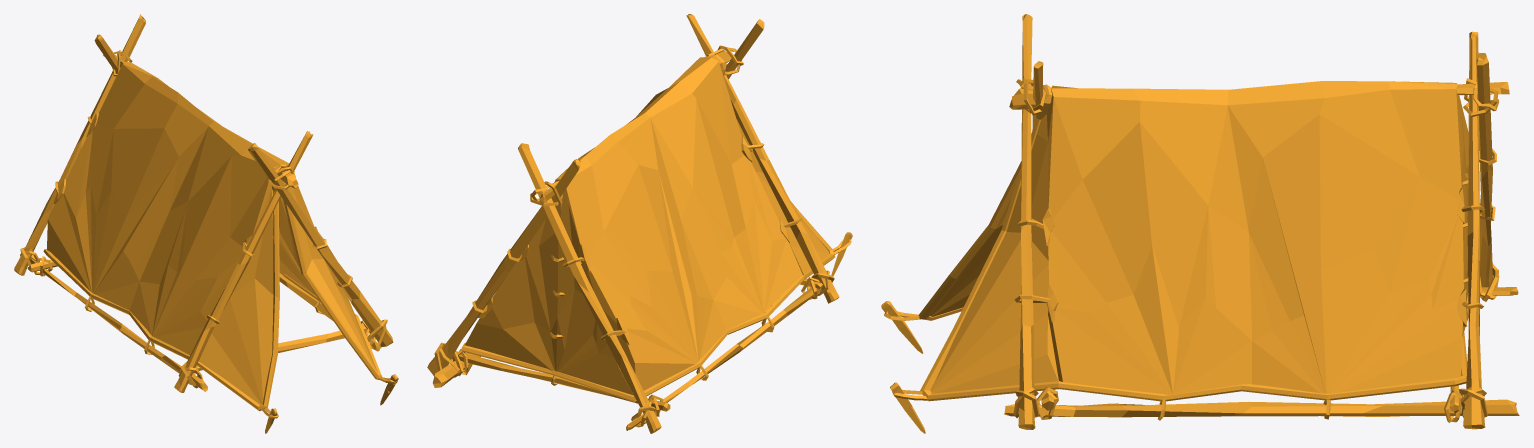
File: SM_Tent_Norseman_Plain_Fantasy.fbx
3 views of the same model, side by side, from view 1: azimuth 30°, elevation 25°; view 2: azimuth 150°, elevation 25°; view 3: azimuth 270°, elevation 25° (orthographic). The views are drawn at different scales.
Parts seen in each view (by area): view 1: tent-norseman-plain-fantasy; view 2: tent-norseman-plain-fantasy; view 3: tent-norseman-plain-fantasy.
Boxes of the visible parts, x1,y1,x2,y2 form: tent-norseman-plain-fantasy: (14, 14, 398, 433); tent-norseman-plain-fantasy: (427, 14, 852, 433); tent-norseman-plain-fantasy: (881, 14, 1519, 433).
Size of the model in its own units: 2.12 by 2.46 by 3.96.
